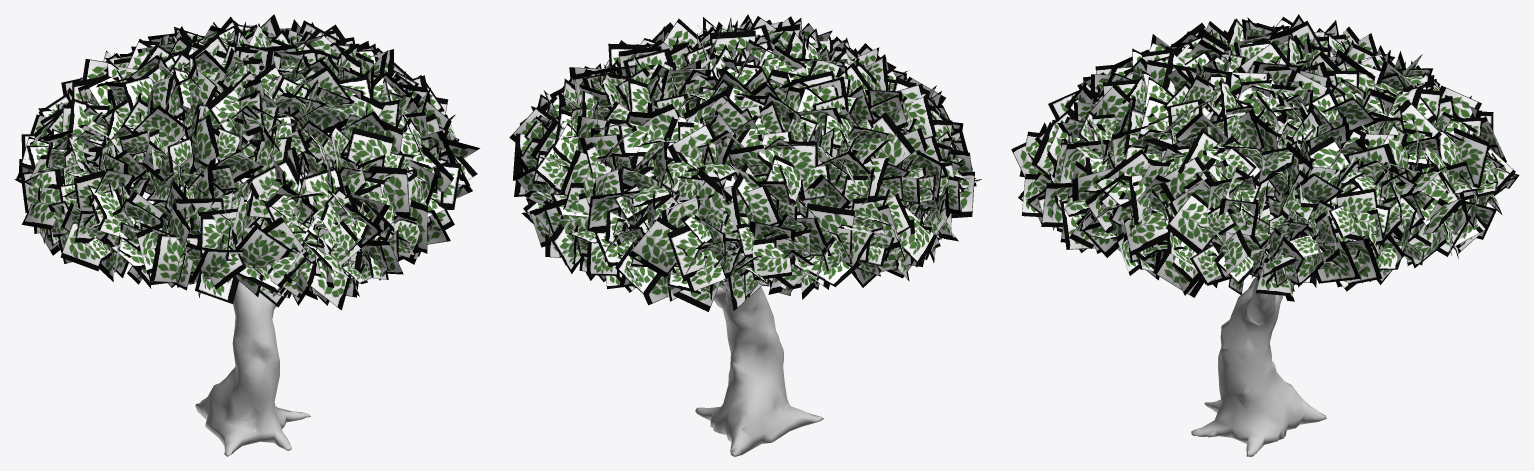
File: WorldTreeLP_ForestProp_004.fbx
The picture shows the model from 3 angles, left to right: view 1: azimuth 30°, elevation 25°; view 2: azimuth 150°, elevation 25°; view 3: azimuth 270°, elevation 25°; orthographic projection.
Visible parts, largest first — view 1: Leaf.001; view 2: Leaf.001; view 3: Leaf.001.
Part boxes in pixels (left/top/right/bottom): Leaf.001: left=14, top=14, right=479, bottom=456; Leaf.001: left=509, top=14, right=981, bottom=456; Leaf.001: left=1011, top=14, right=1519, bottom=456.
Bounding box in the file's own units: 2391 × 2236 × 1997.
